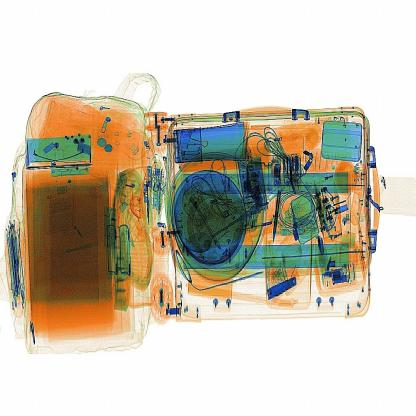gun: (266, 173, 289, 246)
